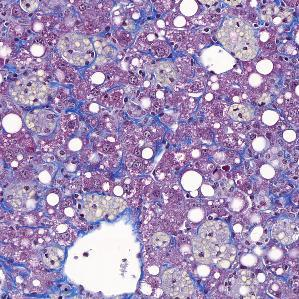fibrosis: (134, 115, 224, 162)
